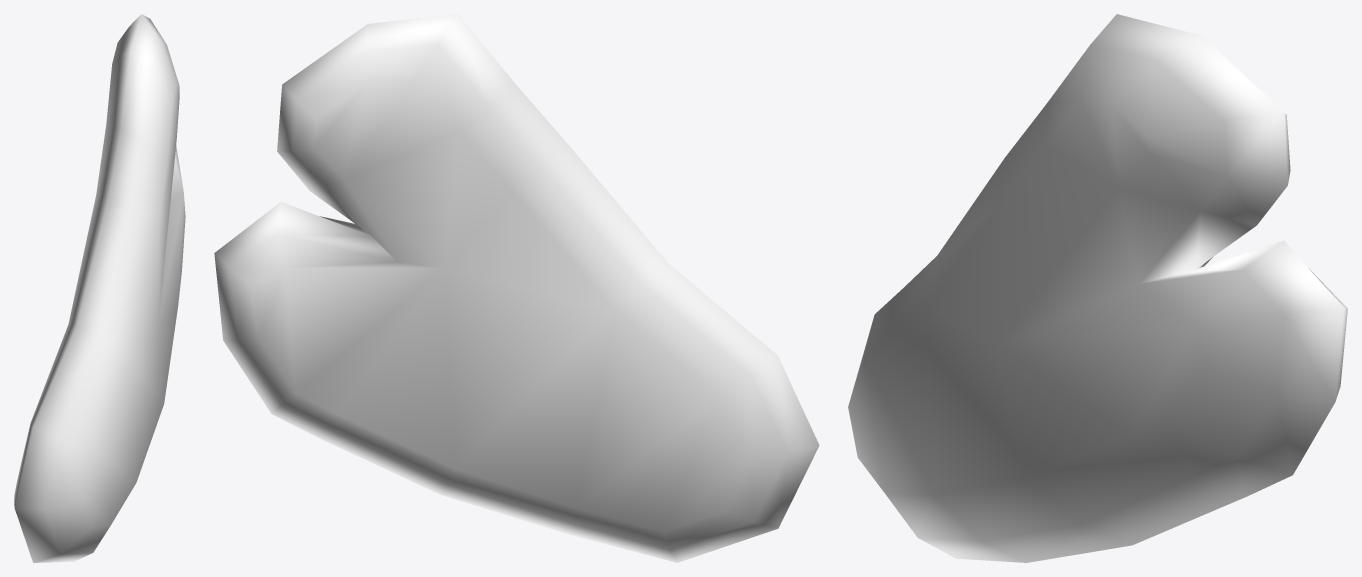
Rendered from AngelWing.obj.
The picture shows the model from 3 angles, left to right: view 1: azimuth 30°, elevation 25°; view 2: azimuth 150°, elevation 25°; view 3: azimuth 270°, elevation 25°; orthographic projection. The views are drawn at different scales.
Visible parts, largest first — view 1: 円; view 2: 円; view 3: 円.
Boxes of the visible parts, x1,y1,x2,y2 form: 円: (14,14,185,562); 円: (214,14,819,562); 円: (848,14,1347,562).
Bounding box in the file's own units: 0.4572 × 0.6308 × 0.4539.
1 material, 1 textured.
